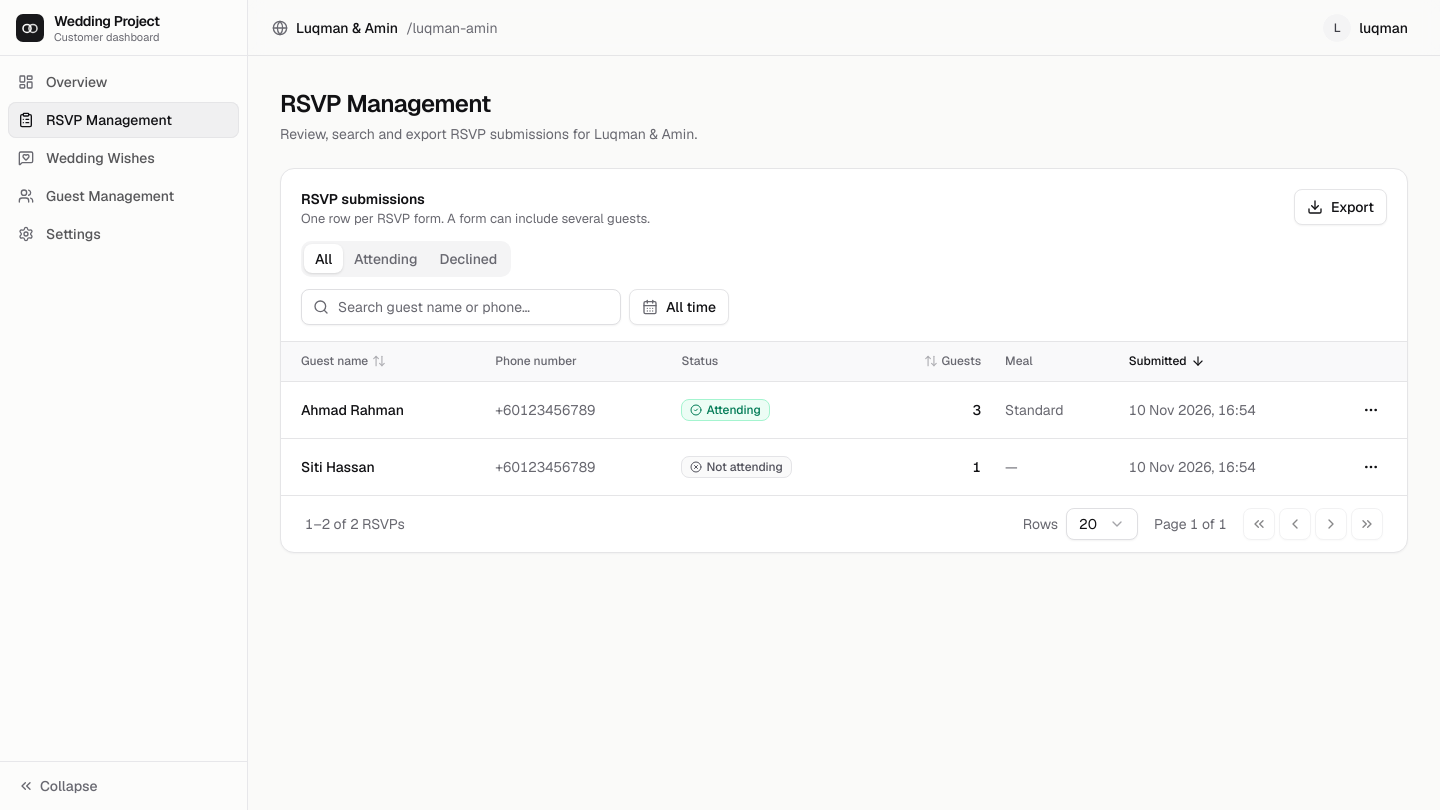
Test: RSVP management › opens the full RSVP detail with guest details
Click the text "Ahmad Rahman" at (352, 410), box [301,401,404,419]
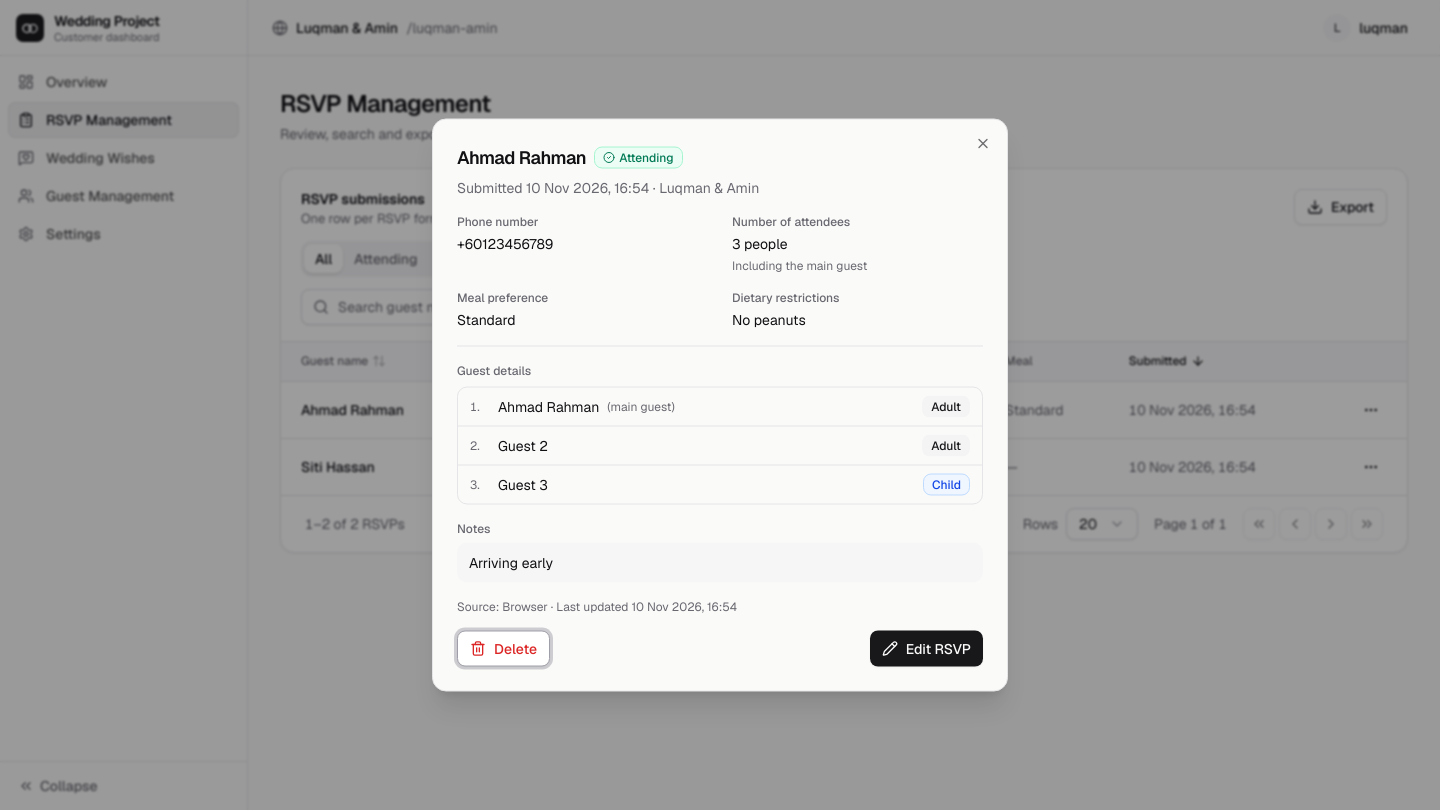
Expected: the text "Guest 3" is shown, [498,474,548,494]
Expected: the text "Child" is shown, [923,474,970,496]
Expected: the text "No peanuts" is shown, [732,310,806,328]
